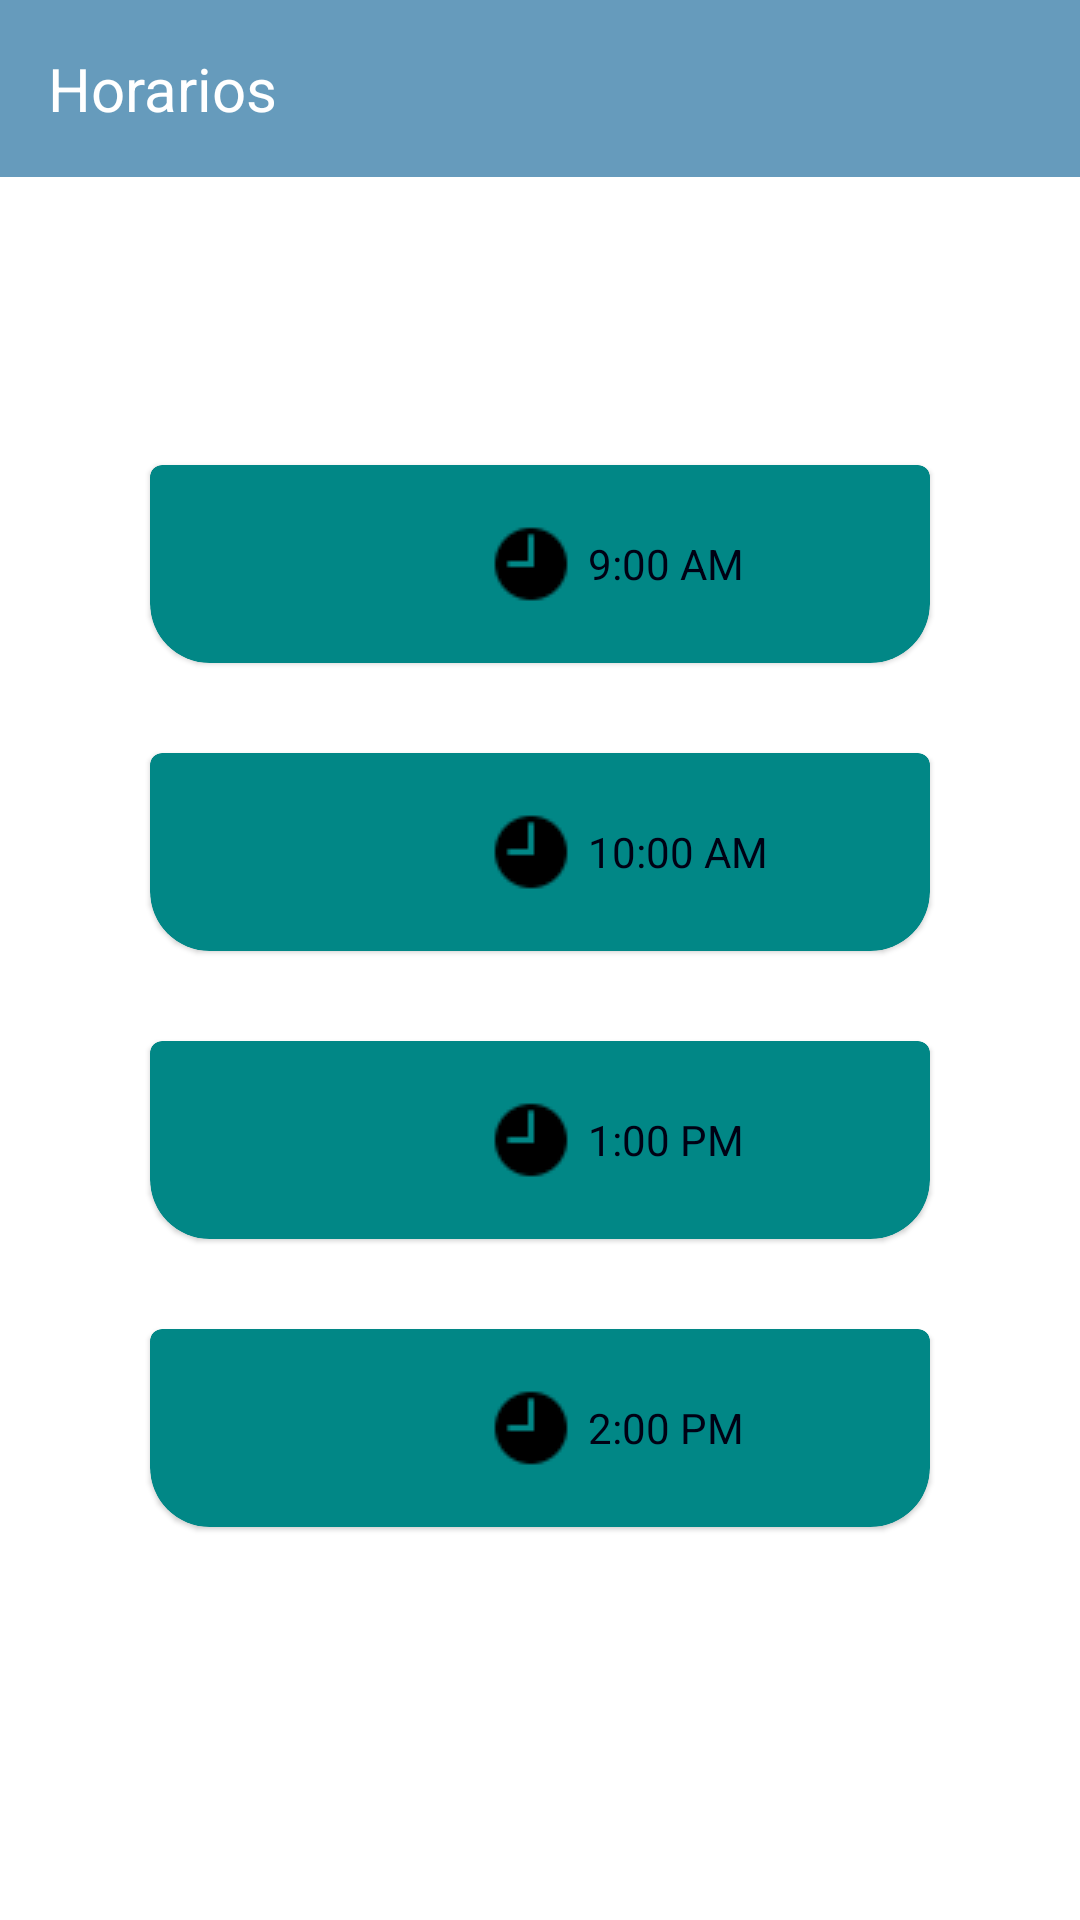

Screen size 1080x1920. Icon name, then its box in pixels as (x1, y1, x2, y2):
clock: (494, 527, 568, 601), (494, 815, 568, 889), (494, 1103, 568, 1177), (494, 1391, 568, 1465)
